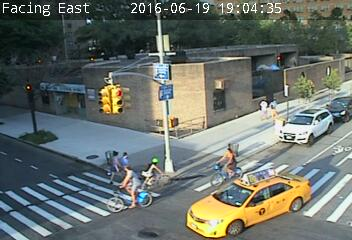neg: (105, 164, 149, 222), (201, 142, 242, 196), (138, 151, 172, 198), (37, 126, 57, 154), (9, 126, 28, 151), (55, 133, 65, 146)
pos: (98, 149, 124, 183), (263, 95, 284, 122), (253, 98, 270, 121)
